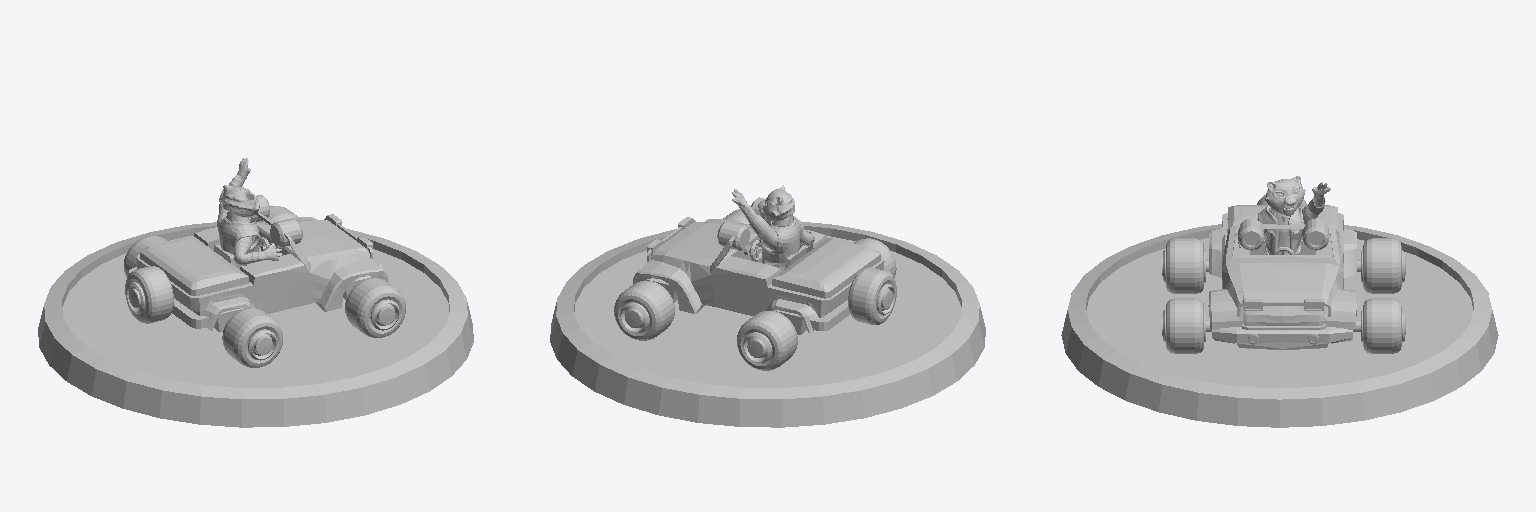
File: selectionbaxter_000019.obj
3 views of the same model, side by side, from view 1: azimuth 30°, elevation 25°; view 2: azimuth 150°, elevation 25°; view 3: azimuth 270°, elevation 25° (orthographic).
Visible parts, largest first — view 1: platform_low_platform_low.000, body, wheels_low, body_low_Body, cloth_low_Cloth_low, spotlight1, back; view 2: platform_low_platform_low.000, body, wheels_low, body_low_Body, cloth_low_Cloth_low, spotlight1, back; view 3: platform_low_platform_low.000, body, wheels_low, front, body_low_Body, spotlight1, cloth_low_Cloth_low.
Part boxes in pixels (bbox=[...]): platform_low_platform_low.000: bbox=[38, 222, 473, 427]; body: bbox=[136, 211, 388, 330]; wheels_low: bbox=[124, 206, 405, 367]; body_low_Body: bbox=[218, 158, 282, 263]; cloth_low_Cloth_low: bbox=[217, 213, 260, 269]; spotlight1: bbox=[250, 195, 302, 247]; back: bbox=[129, 267, 208, 328]; platform_low_platform_low.000: bbox=[550, 222, 985, 427]; body: bbox=[633, 219, 884, 332]; wheels_low: bbox=[614, 209, 896, 370]; body_low_Body: bbox=[732, 185, 813, 250]; cloth_low_Cloth_low: bbox=[759, 215, 803, 271]; spotlight1: bbox=[717, 197, 769, 250]; back: bbox=[810, 270, 891, 330]; platform_low_platform_low.000: bbox=[1061, 224, 1498, 427]; body: bbox=[1208, 205, 1356, 329]; wheels_low: bbox=[1162, 195, 1405, 353]; front: bbox=[1212, 327, 1352, 349]; body_low_Body: bbox=[1238, 176, 1330, 254]; spotlight1: bbox=[1238, 218, 1328, 250]; cloth_low_Cloth_low: bbox=[1258, 205, 1303, 254].
Size of the model in its own units: 13.87 by 5.56 by 13.87.